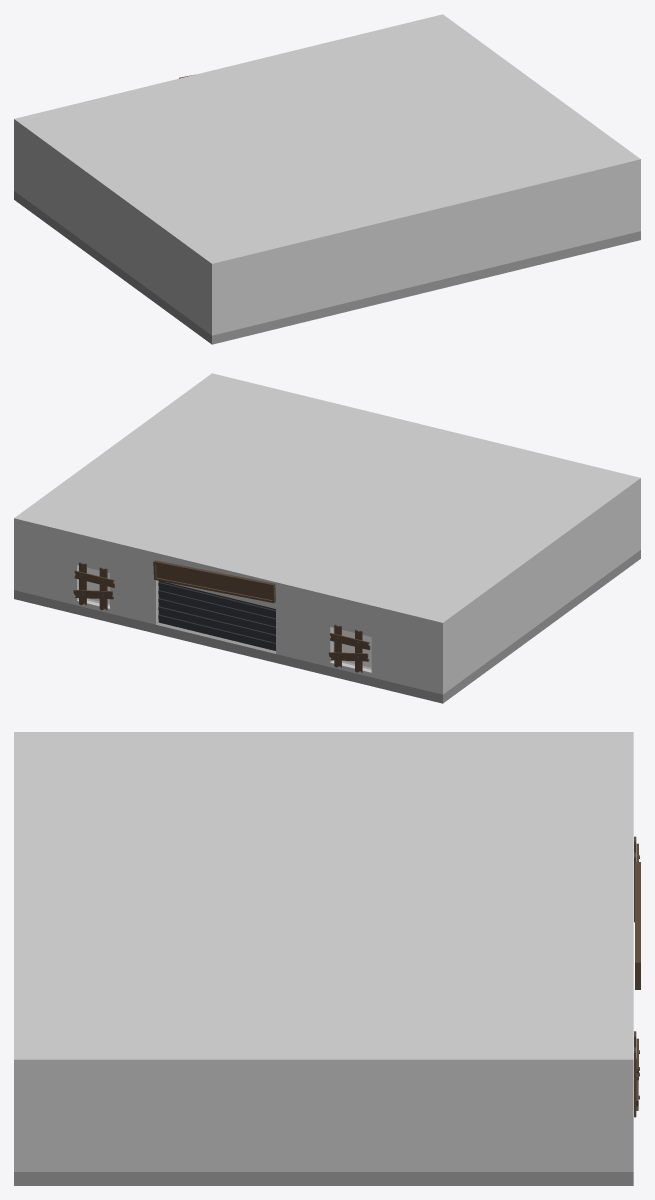
Rendered from Tienda_cerrada_1.fbx.
3 views of the same model, one above another, from view 1: azimuth 30°, elevation 25°; view 2: azimuth 150°, elevation 25°; view 3: azimuth 270°, elevation 25° (orthographic). The views are drawn at different scales.
Parts seen in each view (by area): view 1: Techo_2, Pared_1x10x46, Pared_1x10x36, Piso_2, Esquina_1x10x2, Esquina_1x10x26, Esquina_1x10x24; view 2: Techo_2, Fachada_2, Pared_1x10x36, Piso_2, Puerta_metalica, Letrero, Esquina_1x10x24, Esquina_1x10x25, Esquina_1x10x2; view 3: Techo_2, Pared_1x10x58, Piso_2, Esquina_1x10x25, Esquina_1x10x26, Letrero.
Part boxes in pixels (x1,y1,x2,y2): Techo_2: [14, 14, 640, 272]; Pared_1x10x46: [229, 172, 623, 331]; Pared_1x10x36: [24, 135, 202, 327]; Piso_2: [14, 191, 640, 344]; Esquina_1x10x2: [202, 266, 229, 335]; Esquina_1x10x26: [624, 168, 640, 234]; Esquina_1x10x24: [14, 128, 23, 197]; Techo_2: [14, 373, 640, 631]; Fachada_2: [31, 531, 425, 690]; Pared_1x10x36: [452, 494, 630, 686]; Piso_2: [14, 550, 640, 703]; Puerta_metalica: [158, 581, 275, 650]; Letrero: [153, 560, 275, 602]; Esquina_1x10x24: [425, 625, 452, 694]; Esquina_1x10x25: [14, 527, 30, 593]; Esquina_1x10x2: [631, 487, 640, 556]; Techo_2: [14, 732, 633, 1073]; Pared_1x10x58: [45, 1073, 602, 1171]; Piso_2: [14, 1172, 633, 1185]; Esquina_1x10x25: [602, 1073, 633, 1171]; Esquina_1x10x26: [14, 1073, 44, 1171]; Letrero: [635, 862, 640, 989].
Bounding box in the file's own units: 50 × 9 × 40.47.
